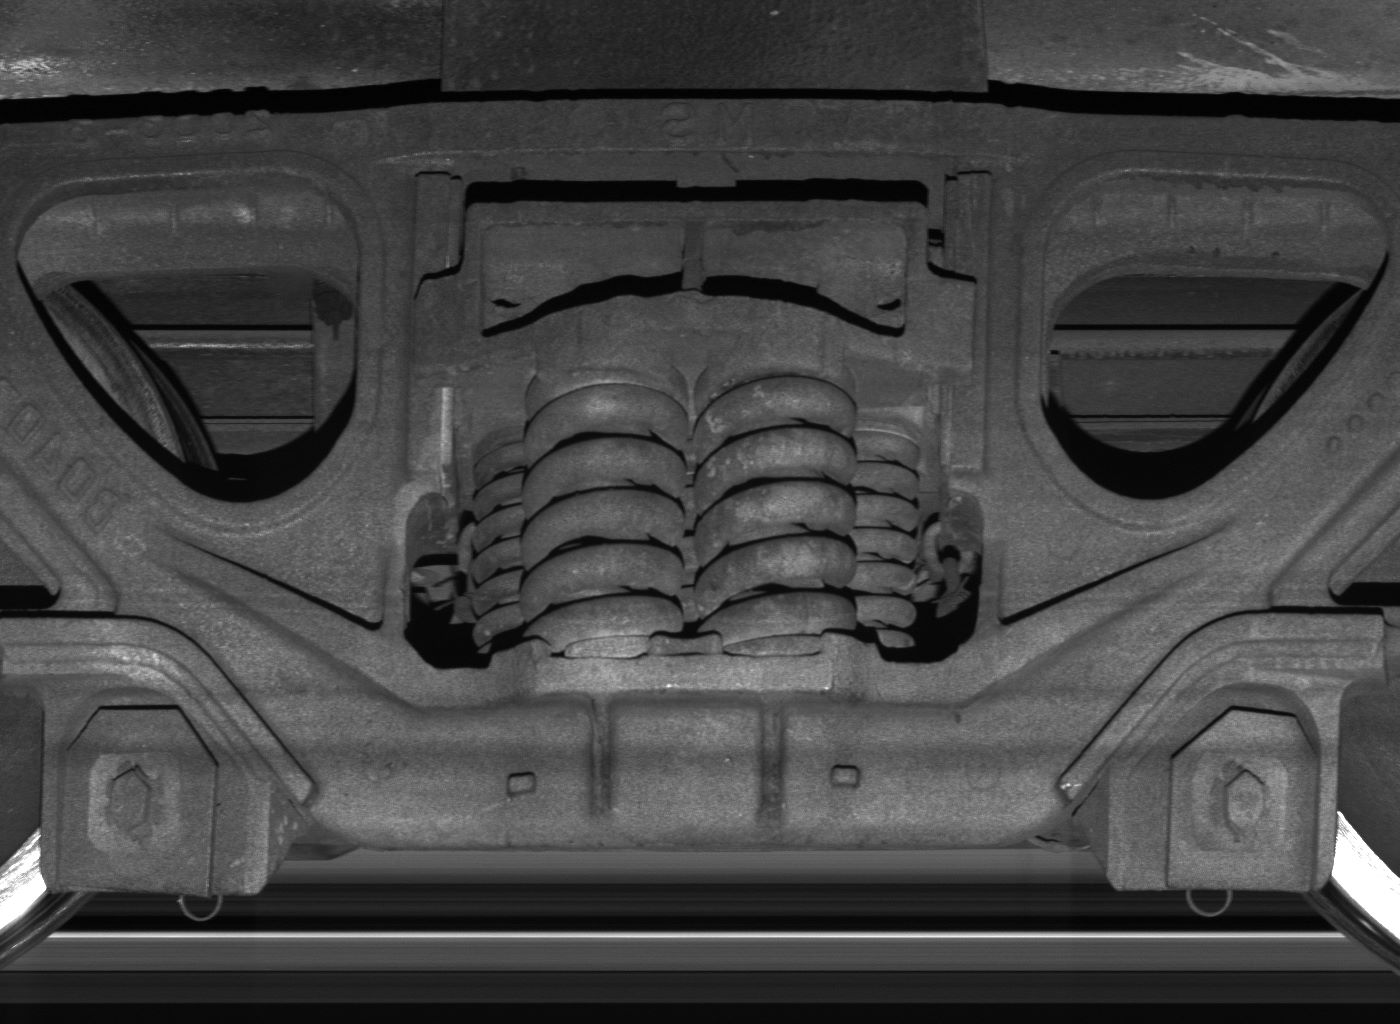normal: (1107, 682, 1338, 890), (42, 688, 268, 898)
